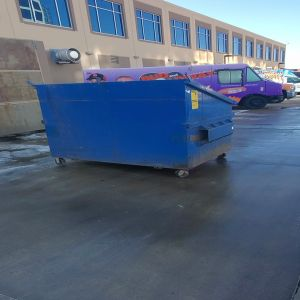Dumpster: (36, 84, 237, 179)
